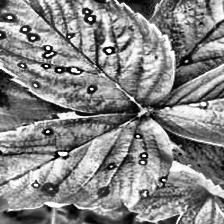Leaf Spot: (0, 0, 176, 114), (0, 113, 173, 214), (148, 0, 224, 152)
